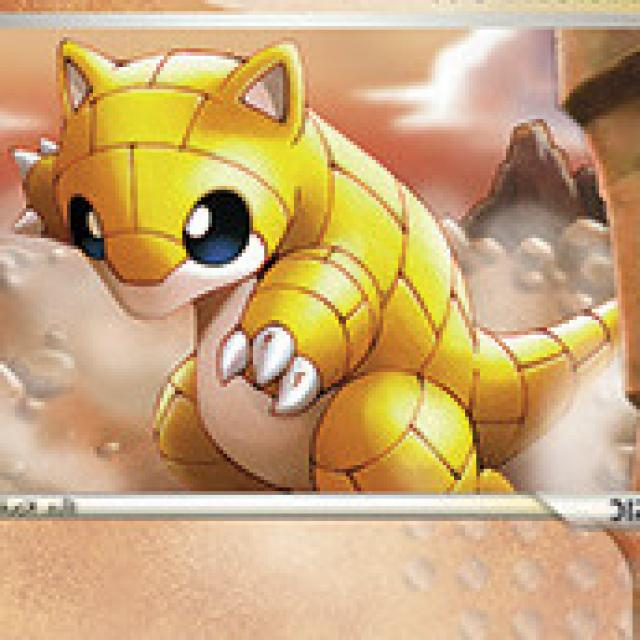Sandshrew: (10, 32, 572, 490)
